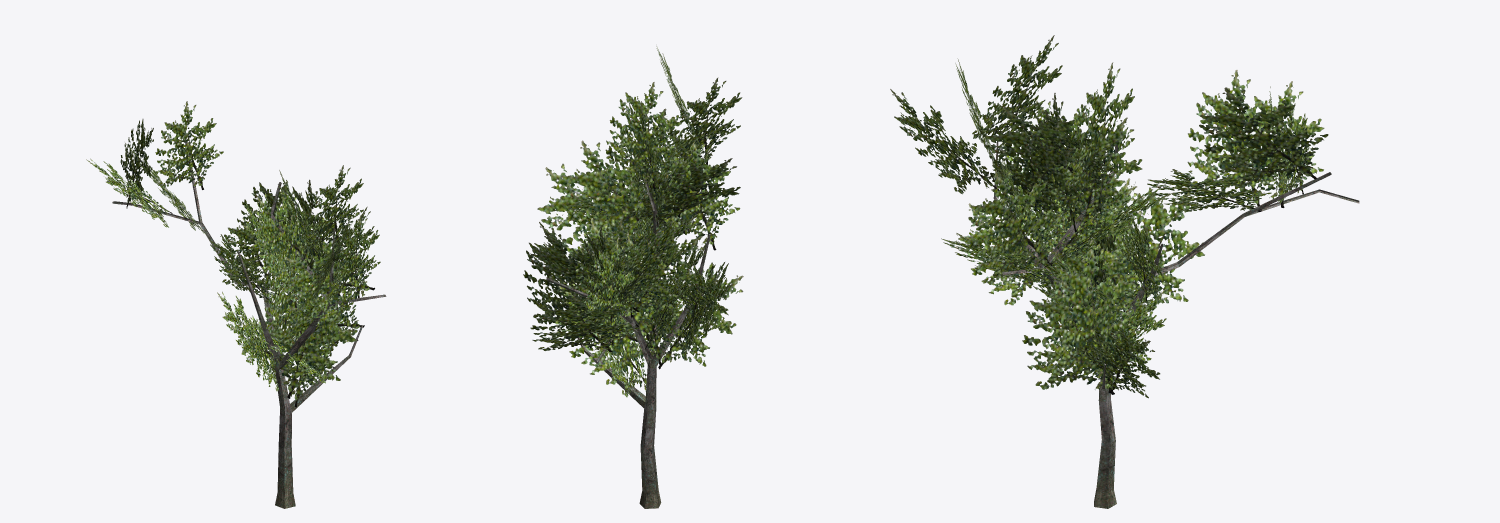
Rendered from tree01.glb.
The picture shows the model from 3 angles, left to right: view 1: azimuth 30°, elevation 25°; view 2: azimuth 150°, elevation 25°; view 3: azimuth 270°, elevation 25°; orthographic projection. The views are drawn at different scales.
Parts seen in each view (by area): view 1: treee01; view 2: treee01; view 3: treee01.
Part boxes in pixels (x1,y1,x2,y2): treee01: [86, 101, 386, 508]; treee01: [523, 46, 743, 508]; treee01: [890, 35, 1359, 508].
Size of the model in its own units: 38.21 by 54.49 by 61.75.
1 material, 1 textured.
